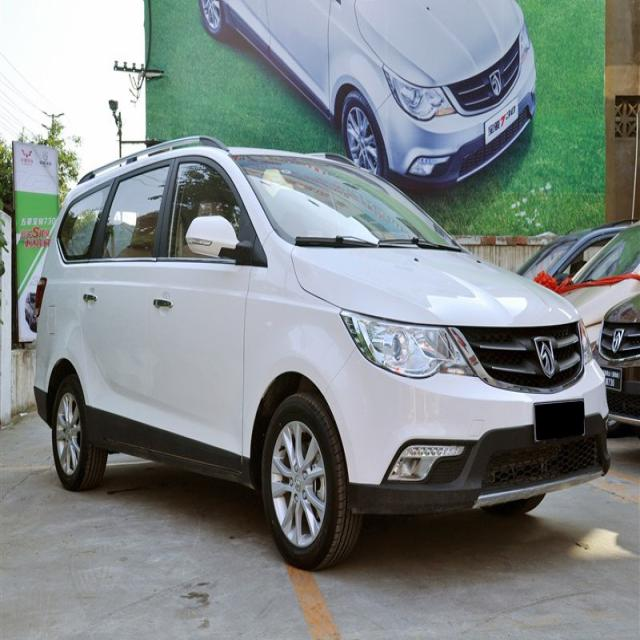door: (74, 158, 174, 447)
front_bumper: (318, 345, 610, 518)
front_glass: (232, 149, 459, 256)
front_right_side_door: (148, 151, 254, 472)
front_right_side_light: (339, 306, 469, 383)
front_right_side_mirror: (185, 213, 242, 263)
wheel: (262, 392, 344, 569), (50, 379, 96, 490)
